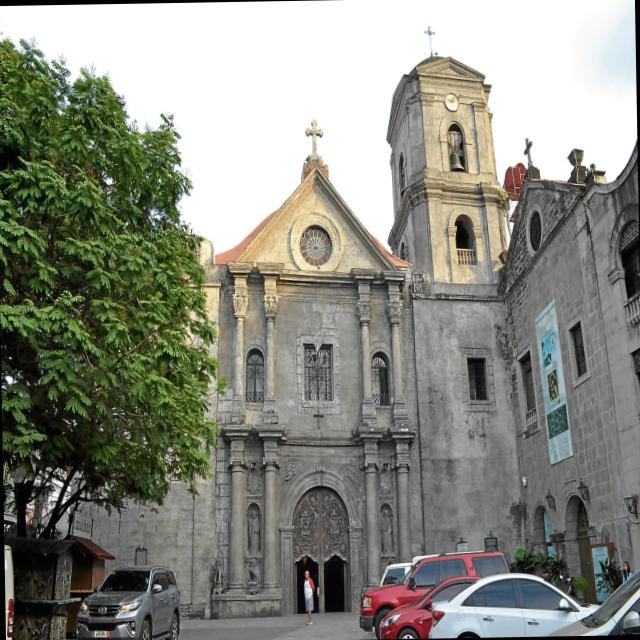San Agustin Church: (97, 48, 525, 618)
